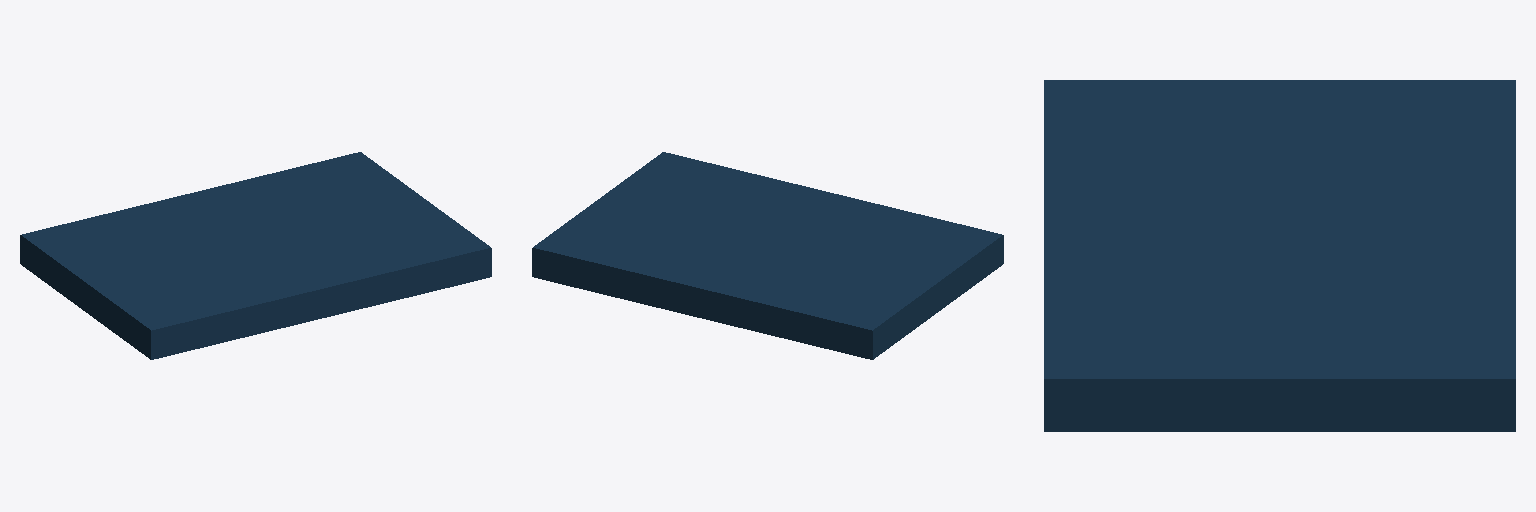
URDF robot description (dvrk_pybullet_interaction_table):
<?xml version="1.0"?>
<!-- SPDX-License-Identifier: Apache-2.0 -->
<robot name="dvrk_pybullet_interaction_table">
  <link name="table">
    <visual>
      <origin xyz="0 0 -0.025" rpy="0 0 0"/>
      <geometry><box size="0.600 0.400 0.050"/></geometry>
      <material name="table_blue"><color rgba="0.16 0.28 0.38 1"/></material>
    </visual>
    <collision>
      <origin xyz="0 0 -0.025" rpy="0 0 0"/>
      <geometry><box size="0.600 0.400 0.050"/></geometry>
    </collision>
    <inertial>
      <origin xyz="0 0 -0.025" rpy="0 0 0"/>
      <mass value="20.0"/>
      <inertia ixx="0.2833" ixy="0" ixz="0" iyy="0.6083" iyz="0" izz="0.8667"/>
    </inertial>
  </link>
</robot>

--- What the picture shows (computed from the rendered views, not written in the file) ---
Views: 3 orthographic renders of the robot side by side, from view 1: azimuth 30°, elevation 25°; view 2: azimuth 150°, elevation 25°; view 3: azimuth 270°, elevation 25°.
Model dvrk_pybullet_interaction_table with 1 links and 0 joints (none), rooted at table, posed every joint at zero.
Visible links, largest first — view 1: table; view 2: table; view 3: table.
Link boxes in pixels (x1,y1,x2,y2): table: [20, 152, 491, 359]; table: [532, 152, 1003, 359]; table: [1044, 80, 1515, 431].
Bounding box of the posed robot: 0.6 × 0.4 × 0.05 m (x, y, z).
Geometry: primitives only (box / cylinder / sphere), no mesh files.
